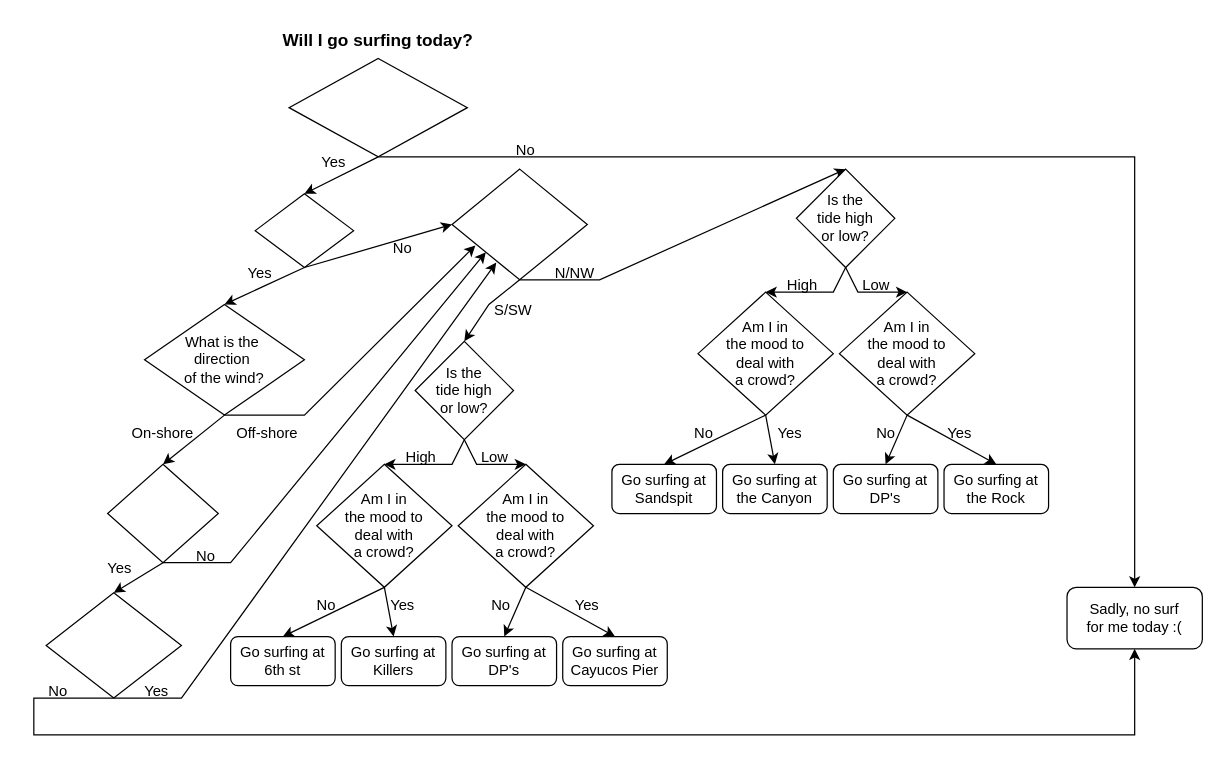
Some shapes in this 1224 by 766 pixel diagram are drawn without their labels. The shapes that lost their labels are listed below. From the top down, each one's box as (x1, y1, x2, y2) in pixels, then its label:
(288, 57, 467, 157): Do I have time to surf?
(254, 192, 354, 268): Is it windy?
(451, 168, 587, 280): What direction is the swell?
(106, 463, 218, 563): Is the wind >10kn?
(45, 592, 181, 698): Am I desperate to get wet?
